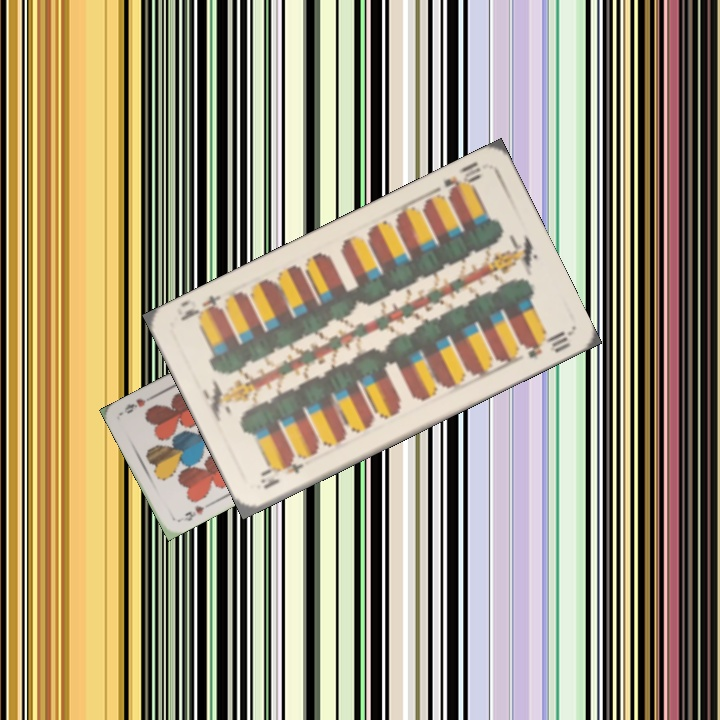E10: (434, 158, 485, 203), (256, 455, 306, 492)
H9: (174, 501, 207, 524)
